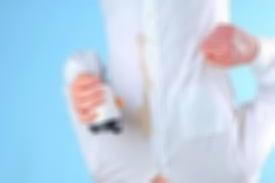coffee: (135, 32, 155, 140)
